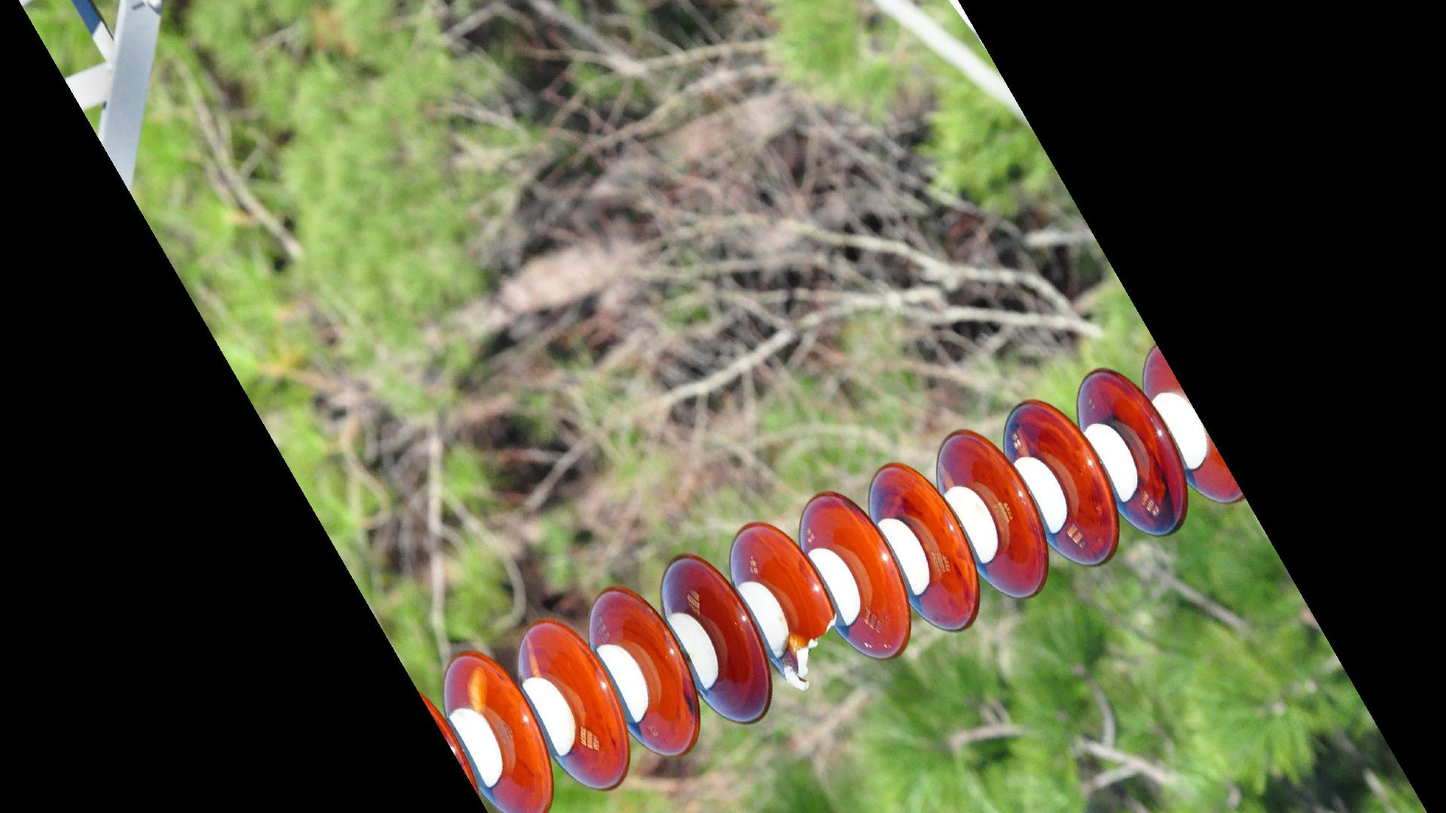insulator: (413, 335, 1254, 813)
insulator_breakage: (778, 606, 844, 694)
insulator_flashover: (460, 663, 493, 715)
